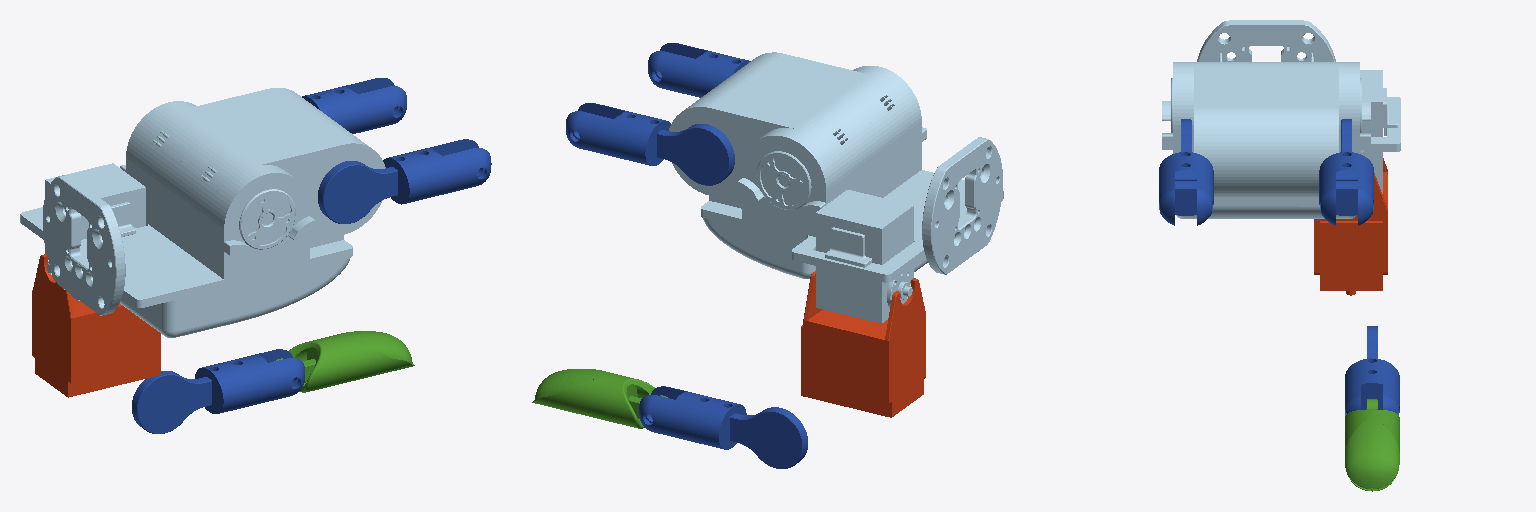
URDF robot description (platov2):
<?xml version="1.0"?>
<robot name="platov2">

<!-- Virtual Arm -->
  <link name="base">
    <inertial>
      <mass value="1.0e9"/>
      <inertia ixx="1.0e-9" ixy="0.0" ixz="0.0" iyy="1.0e-9" iyz="0.0" izz="1.0e-9"/>
    </inertial>
  </link>

  <link name="virtual_link_x">
    <inertial>
      <mass value="1.0e-9"/>
      <inertia ixx="1.0e-9" ixy="0.0" ixz="0.0" iyy="1.0e-9" iyz="0.0" izz="1.0e-9"/>
    </inertial>
  </link>

   <joint name="virtual_joint_x" type="prismatic">
    <parent link="base"/>
    <child link="virtual_link_x"/>
    <origin xyz="0 0 0"/>
    <axis xyz="1 0 0"/>
    <limit lower="-1e9" upper="1e9" effort="1000.0" velocity="10"/>
  </joint>

  <link name="virtual_link_y">
    <inertial>
      <mass value="1e-9"/>
      <inertia ixx="1e-9" ixy="0.0" ixz="0.0" iyy="1e-9" iyz="0.0" izz="1e-9"/>
    </inertial>
  </link>

  <joint name="virtual_joint_y" type="prismatic">
    <parent link="virtual_link_x"/>
    <child link="virtual_link_y"/>
    <origin xyz="0 0 0"/>
    <axis xyz="0 1 0"/>
    <limit lower="-1e9" upper="1e9" effort="1000.0" velocity="10"/>
  </joint>

  <link name="virtual_link_z">
    <inertial>
      <mass value="1e-9"/>
      <inertia ixx="1e-9" ixy="0.0" ixz="0.0" iyy="1e-9" iyz="0.0" izz="1e-9"/>
    </inertial>
  </link>

  <joint name="virtual_joint_z" type="prismatic">
    <parent link="virtual_link_y"/>
    <child link="virtual_link_z"/>
    <origin xyz="0 0 0"/>
    <axis xyz="0 0 1"/>
    <limit lower="-1e9" upper="1e9" effort="1000.0" velocity="10"/>
  </joint>

  <link name="virtual_link_pitch">
    <inertial>
      <mass value="1e-9"/>
      <inertia ixx="1e-9" ixy="0.0" ixz="0.0" iyy="1e-9" iyz="0.0" izz="1e-9"/>
    </inertial>
  </link>

  <joint name="virtual_joint_pitch" type="revolute">
    <axis xyz="0 1 0"/>
    <origin rpy="0 0 0" xyz="0 0 0"/>
    <parent link="virtual_link_z"/>
    <child link="virtual_link_pitch"/>
    <limit effort="1000.0" lower="-1.57" upper="1.57" velocity="10"/>
  </joint>

    <link name="virtual_link_yaw">
    <inertial>
      <mass value="1e-9"/>
      <inertia ixx="1e-9" ixy="0.0" ixz="0.0" iyy="1e-9" iyz="0.0" izz="1e-9"/>
    </inertial>
  </link>

  <joint name="virtual_joint_yaw" type="revolute">
    <axis xyz="0 0 1"/>
    <origin rpy="0 0 0" xyz="0 0 0"/>
    <parent link="virtual_link_pitch"/>
    <child link="virtual_link_yaw"/>
    <limit effort="1000.0" lower="-1.57" upper="1.57" velocity="10"/>
  </joint>


  <!-- <link name="virtual_link_roll">
    <inertial>
      <mass value="1e-9"/>
      <inertia ixx="1e-9" ixy="0.0" ixz="0.0" iyy="1e-9" iyz="0.0" izz="1e-9"/>
    </inertial>
  </link> -->

  <joint name="virtual_joint_roll" type="revolute">
    <axis xyz="1 0 0"/>
    <origin rpy="0 0 0" xyz="0 0 0"/>
    <parent link="virtual_link_yaw"/>
    <child link="plato_base"/>
    <limit effort="1000.0" lower="-1.57" upper="1.57" velocity="10"/>
  </joint>

<!-- Plato URDF -->
  <link name="plato_ee">
    <inertial>
      <origin xyz="0.0 0.0 0.0" rpy="0 0 0" />
      <mass value="1e-8" />
      <inertia ixx="1e-8" ixy="0.0" ixz="0.0" iyy="1e-8" iyz="0.0" izz="1e-8" />
    </inertial>
  </link>

  <joint name="plato_ee_joint" type="fixed">
    <origin rpy="0 0 0" xyz="0.175 0 -0.07" />
    <parent link="plato_base" />
    <child link="plato_ee" />
  </joint>

  <link name="plato_base">
    <visual>
      <origin xyz="0 0 0" rpy="0 -0 0" />
      <geometry>
        <mesh filename="package://meshes/plato/plato_base_visual.stl" />
      </geometry>
      <material name="plato_base_material">
        <color rgba="0.76862745098039220171 0.88627450980392152857 0.95294117647058818044 1.0" />
      </material>
    </visual>
    <collision>
      <origin xyz="0.055 0 0.015" rpy="0 -0 0" />
      <geometry>
        <!-- <mesh filename="package://meshes/plato/plato_base_collision.stl"/> -->
        <box size="0.11 0.06 0.075" />
      </geometry>
    </collision>
    <inertial>
      <origin xyz="0.072253187903399476721 0.0027042690169013089418 0.010832994409198807087"
        rpy="0 0 0" />
      <mass value="0.48743034749190494725" />
      <inertia ixx="0.00047862593079525661815" ixy="5.9487871359088766588e-05"
        ixz="-0.00011827147650934475198" iyy="0.00065212155154834234357"
        iyz="1.4829516353374399984e-05" izz="0.00077625253551394607452" />
    </inertial>
  </link>

  <link name="plato_finger0_mcp">
    <visual>
      <origin xyz="0 0 0" rpy="0 -0 0" />
      <geometry>
        <mesh filename="package://meshes/plato/plato_finger0_mcp_visual.stl" />
      </geometry>
      <material name="plato_finger0_mcp_material">
        <color rgba="0.86666666666666669627 0.32156862745098041545 0.15686274509803921351 1.0" />
      </material>
    </visual>
    <collision>
      <origin xyz="0 -0.035 0.015" rpy="0 -0 0" />
      <geometry>
        <!-- <mesh filename="package://meshes/plato/plato_finger0_mcp_collision.stl"/> -->
        <box size="0.038 0.03 0.033" />
      </geometry>
    </collision>
    <inertial>
      <origin xyz="4.3368086812332699059e-18 -0.035858990017060971001 0.02096136181894839301"
        rpy="0 0 0" />
      <mass value="0.059987560455837050932" />
      <inertia ixx="1.9336847962055060749e-05" ixy="-3.4998742149709024301e-31"
        ixz="8.3553051875136875286e-29" iyy="1.6327789453929628338e-05"
        iyz="2.2275403852160981363e-07" izz="1.3613507982076626543e-05" />
    </inertial>
  </link>

  <link name="plato_finger0_actuator">
    <visual>
      <origin xyz="0 0 0" rpy="0 -0 0" />
      <geometry>
        <mesh filename="package://meshes/plato/plato_finger0_actuator_visual.stl" />
      </geometry>
      <material name="plato_finger0_actuator_material">
        <color rgba="0.98039215686274505668 0.71372549019607844922 0.0039215686274509803377 1.0" />
      </material>
    </visual>
    <collision>
      <origin xyz="0.008 0.01 -0.025" rpy="0 -0 0" />
      <geometry>
        <!-- <mesh filename="package://meshes/plato/plato_finger0_actuator_collision.stl"/> -->
        <box size="0.07 0.025 0.04" />
      </geometry>
    </collision>
    <inertial>
      <origin xyz="-0.0017003014462741046758 0.0034003474082472959564 -0.021509600469238610021"
        rpy="0 0 0" />
      <mass value="0.097951145202285275215" />
      <inertia ixx="2.327070745163399977e-05" ixy="1.0141384320562153623e-05"
        ixz="-2.5823536163417861853e-06" iyy="7.1448972019017559904e-05"
        iyz="3.421906922706638638e-07" izz="6.6916311631679264039e-05" />
    </inertial>
  </link>

  <link name="plato_finger0_link1">
    <visual>
      <origin xyz="0 0 0" rpy="0 -0 0" />
      <geometry>
        <mesh filename="package://meshes/plato/plato_finger0_link1_visual.stl" />
      </geometry>
      <material name="plato_finger0_link1_material">
        <color rgba="0.2313725490196078538 0.38039215686274507888 0.7058823529411765163 1.0" />
      </material>
    </visual>
    <collision>
      <origin xyz="0 0 0" rpy="0 -0 0" />
      <geometry>
        <mesh filename="package://meshes/plato/plato_finger0_link1_collision.stl" />
      </geometry>
    </collision>
    <inertial>
      <origin xyz="0.032327885659848135114 0.00010105858651056218384 -0.0025039455945214694234"
        rpy="0 0 0" />
      <mass value="0.016408945567631467305" />
      <inertia ixx="1.0305383873797942614e-06" ixy="-2.5156605351815777883e-08"
        ixz="1.6765159730014295618e-09" iyy="6.5540676884658039135e-06"
        iyz="-3.6909321465722408623e-11" izz="6.4212583341237596527e-06" />
    </inertial>
  </link>

  <link name="plato_finger0_link2">
    <visual>
      <origin xyz="0 0 0" rpy="0 -0 0" />
      <geometry>
        <mesh filename="package://meshes/plato/plato_finger0_link2_visual.stl" />
      </geometry>
      <material name="plato_finger0_link2_material">
        <color rgba="0.37254901960784314596 0.65490196078431373028 0.23921568627450978672 1.0" />
      </material>
    </visual>
    <collision>
      <origin xyz="0 0 0" rpy="0 -0 0" />
      <geometry>
        <mesh filename="package://meshes/plato/plato_finger0_link2_collision.stl" />
      </geometry>
    </collision>
    <inertial>
      <origin xyz="0.033420114187910673897 0.00087489014235658465763 -0.0024991294289444230571"
        rpy="0 0 0" />
      <mass value="0.017824410830501669772" />
      <inertia ixx="1.0868615018735310211e-06" ixy="-1.0926066300549407727e-07"
        ixz="-6.2707510008701054345e-11" iyy="4.6336449367957920507e-06"
        iyz="2.9999644930155378134e-11" izz="4.3422594653121779546e-06" />
    </inertial>
  </link>

  <link name="plato_finger0_ee">
    <inertial>
      <origin xyz="0 0 0" rpy="0 0 0" />
      <mass value="1e-9" />
      <inertia ixx="0" ixy="0" ixz="0" iyy="0" iyz="0" izz="0" />
    </inertial>
  </link>
  <joint name="plato_finger0_ee_joint" type="fixed">
    <origin xyz="0.063094028360469539551 0.0092379839030397731259 -0.0025000000000000160982"
      rpy="-3.1415926535897926719 1.0178922239597187368e-17 -0.016022148110467510085" />
    <parent link="plato_finger0_link2" />
    <child link="plato_finger0_ee" />
    <axis xyz="0 0 0" />
  </joint>

  <joint name="plato_finger0_joint2" type="revolute">
    <origin xyz="0.05999999999999999778 0 -0.0049999999999998517852"
      rpy="-3.141592653589793116 2.7271404791364840736e-23 2.0382227532457290056e-21" />
    <parent link="plato_finger0_link1" />
    <child link="plato_finger0_link2" />
    <axis xyz="0 0 1" />
    <limit effort="0.8499999999999999778" velocity="1.5700000000000000622"
      lower="-2.0943951023931952626" upper="0" />
    <joint_properties friction="0.0" />
  </joint>

  <joint name="plato_finger0_joint1" type="revolute">
    <origin xyz="-0.02550000000000001571 -0.0069999999999999923395 -0.024000000000000007438"
      rpy="1.570796326794896558 1.2969694765680609e-21 3.141592653589793116" />
    <parent link="plato_finger0_actuator" />
    <child link="plato_finger0_link1" />
    <axis xyz="0 0 1" />
    <limit effort="0.8499999999999999778" velocity="1.5700000000000000622"
      lower="-1.0471975511965976313" upper="1.0471975511965976313" />
    <joint_properties friction="0.0" />
  </joint>

  <joint name="plato_finger0_actuator" type="revolute">
    <origin xyz="1.3877787807814456755e-17 -0.058249999999999982347 0.033249999999999967082"
      rpy="-1.57079632679489678 1.570796326794896558 0" />
    <parent link="plato_finger0_mcp" />
    <child link="plato_finger0_actuator" />
    <axis xyz="0 0 1" />
    <limit effort="0.8499999999999999778" velocity="1.5700000000000000622"
      lower="-1.570796326794896558" upper="1.570796326794896558" />
    <joint_properties friction="0.0" />
  </joint>

  <joint name="plato_finger0_mcp" type="revolute">
    <origin xyz="0.010500011026526772165 0.038499992148728609531 -0.015850000116908929959"
      rpy="1.5707964582365219197 -3.4663894693344668523e-15 1.5707963531668935886" />
    <parent link="plato_base" />
    <child link="plato_finger0_mcp" />
    <axis xyz="0 0 1" />
    <limit effort="0.8499999999999999778" velocity="1.5700000000000000622"
      lower="-0.34906585039886589561" upper="1.2217304763960306069" />
    <joint_properties friction="0.0" />
  </joint>

  <link name="plato_finger1_link1">
    <visual>
      <origin xyz="0 0 0" rpy="0 -0 0" />
      <geometry>
        <mesh filename="package://meshes/plato/plato_finger1_link1_visual.stl" />
      </geometry>
      <material name="plato_finger1_link1_material">
        <color rgba="0.2313725490196078538 0.38039215686274507888 0.7058823529411765163 1.0" />
      </material>
    </visual>
    <collision>
      <origin xyz="0 0 0" rpy="0 -0 0" />
      <geometry>
        <mesh filename="package://meshes/plato/plato_finger1_link1_collision.stl" />
      </geometry>
    </collision>
    <inertial>
      <origin xyz="0.03232787423603074306 -0.00010128860539808447021 -0.0025039441057958630905"
        rpy="0 0 0" />
      <mass value="0.016408928599279455629" />
      <inertia ixx="1.0305320709315028797e-06" ixy="2.5184507284040099629e-08"
        ixz="1.6753796059606909309e-09" iyy="6.5540591658381624555e-06"
        iyz="-2.6871484542664325565e-11" izz="6.4212625465929621513e-06" />
    </inertial>
  </link>

  <link name="plato_finger1_link2">
    <visual>
      <origin xyz="0 0 0" rpy="0 -0 0" />
      <geometry>
        <mesh filename="package://meshes/plato/plato_finger1_link2_visual.stl" />
      </geometry>
      <material name="plato_finger1_link2_material">
        <color rgba="0.37254901960784314596 0.65490196078431373028 0.23921568627450981448 1.0" />
      </material>
    </visual>
    <collision>
      <origin xyz="0 0 0" rpy="0 -0 0" />
      <geometry>
        <mesh filename="package://meshes/plato/plato_finger1_link2_collision.stl" />
      </geometry>
    </collision>
    <inertial>
      <origin xyz="0.033419892432294387441 -0.00087488562936179059808 -0.0024995866007478553632"
        rpy="0 0 0" />
      <mass value="0.017824303232886661019" />
      <inertia ixx="1.0868498583484265088e-06" ixy="1.092938844654737761e-07"
        ixz="4.8572454538354767255e-11" iyy="4.6336740337042243886e-06"
        iyz="3.0565666129865885853e-11" izz="4.3422515521949153376e-06" />
    </inertial>
  </link>

  <link name="plato_finger1_ee">
    <inertial>
      <origin xyz="0 0 0" rpy="0 0 0" />
      <mass value="1e-9" />
      <inertia ixx="0" ixy="0" ixz="0" iyy="0" iyz="0" izz="0" />
    </inertial>
  </link>
  <joint name="plato_finger1_ee_joint" type="fixed">
    <origin xyz="0.063094028360469539551 -0.0092379839030397731259 -0.0025000000000000230371"
      rpy="1.5707963267948958919 1.0178915901030053653e-17 0.016022148110467458043" />
    <parent link="plato_finger1_link2" />
    <child link="plato_finger1_ee" />
    <axis xyz="0 0 0" />
  </joint>

  <joint name="plato_finger1_joint2" type="revolute">
    <origin xyz="0.05999999999999999778 -1.0408340855860842566e-17 -0.0049999999999998379074"
      rpy="3.141592653589793116 1.9908495917398205473e-26 3.0704605524790294154e-16" />
    <parent link="plato_finger1_link1" />
    <child link="plato_finger1_link2" />
    <axis xyz="0 0 1" />
    <limit effort="0.8499999999999999778" velocity="1.5700000000000000622" lower="0"
      upper="2.0943951023931952626" />
    <joint_properties friction="0.0" />
  </joint>

  <joint name="plato_finger1_joint1" type="revolute">
    <origin xyz="0.1135000000000000453 0.034000000000002243705 0.025999999999997049777"
      rpy="1.5707963267948106267 -2.4286128663675290077e-17 2.2203501001526896098e-16" />
    <parent link="plato_base" />
    <child link="plato_finger1_link1" />
    <axis xyz="0 0 1" />
    <limit effort="0.8499999999999999778" velocity="1.5700000000000000622"
      lower="-1.0471975511965976313" upper="1.0471975511965976313" />
    <joint_properties friction="0.0" />
  </joint>

  <link name="plato_finger2_link1">
    <visual>
      <origin xyz="0 0 0" rpy="0 -0 0" />
      <geometry>
        <mesh filename="package://meshes/plato/plato_finger2_link1_visual.stl" />
      </geometry>
      <material name="plato_finger2_link1_material">
        <color rgba="0.2313725490196078538 0.38039215686274507888 0.7058823529411765163 1.0" />
      </material>
    </visual>
    <collision>
      <origin xyz="0 0 0" rpy="0 -0 0" />
      <geometry>
        <mesh filename="package://meshes/plato/plato_finger2_link1_collision.stl" />
      </geometry>
    </collision>
    <inertial>
      <origin xyz="0.032327885659848135114 0.00010105858651056218384 -0.0025039455945214694234"
        rpy="0 0 0" />
      <mass value="0.016408945567631467305" />
      <inertia ixx="1.0305383873797942614e-06" ixy="-2.51566053518157845e-08"
        ixz="1.6765159730014221171e-09" iyy="6.5540676884658039135e-06"
        iyz="-3.690932146572187871e-11" izz="6.4212583341237621938e-06" />
    </inertial>
  </link>

  <link name="plato_finger2_link2">
    <visual>
      <origin xyz="0 0 0" rpy="0 -0 0" />
      <geometry>
        <mesh filename="package://meshes/plato/plato_finger2_link2_visual.stl" />
      </geometry>
      <material name="plato_finger2_link2_material">
        <color rgba="0.37254901960784314596 0.65490196078431373028 0.23921568627450978672 1.0" />
      </material>
    </visual>
    <collision>
      <origin xyz="0 0 0" rpy="0 -0 0" />
      <geometry>
        <mesh filename="package://meshes/plato/plato_finger2_link2_collision.stl" />
      </geometry>
    </collision>
    <inertial>
      <origin xyz="0.033420114187910618386 -0.00087489014235657761032 -0.0025008705710555744449"
        rpy="0 0 0" />
      <mass value="0.017824410830501669772" />
      <inertia ixx="1.0868615018735310211e-06" ixy="1.0926066300549407727e-07"
        ixz="6.2707510008712363455e-11" iyy="4.6336449367957928977e-06"
        iyz="2.9999644930158208642e-11" izz="4.3422594653121779546e-06" />
    </inertial>
  </link>

  <link name="plato_finger2_ee">
    <inertial>
      <origin xyz="0 0 0" rpy="0 0 0" />
      <mass value="1e-9" />
      <inertia ixx="0" ixy="0" ixz="0" iyy="0" iyz="0" izz="0" />
    </inertial>
  </link>
  <joint name="plato_finger2_ee_joint" type="fixed">
    <origin xyz="0.063094028360469511796 -0.009237983903039766187 -0.0024999999999999814038"
      rpy="1.5707963267948970021 -1.017893310654182657e-17 0.016022148110467461513" />
    <parent link="plato_finger2_link2" />
    <child link="plato_finger2_ee" />
    <axis xyz="0 0 0" />
  </joint>

  <joint name="plato_finger2_joint2" type="revolute">
    <origin xyz="0.059999999999999970024 6.9388939039072283776e-18 1.4571677198205179593e-16"
      rpy="-1.5146129380243426664e-28 1.1574569446251038759e-23 2.9910702379423482525e-21" />
    <parent link="plato_finger2_link1" />
    <child link="plato_finger2_link2" />
    <axis xyz="0 0 1" />
    <limit effort="0.8499999999999999778" velocity="1.5700000000000000622" lower="0"
      upper="2.0943951023931952626" />
    <joint_properties friction="0.0" />
  </joint>

  <joint name="plato_finger2_joint1" type="revolute">
    <origin xyz="0.11350000000000096123 -0.033999999999997837508 0.026000000000003180289"
      rpy="-1.5707963267949827113 1.4857049400810895798e-26 5.5511151206923045817e-17" />
    <parent link="plato_base" />
    <child link="plato_finger2_link1" />
    <axis xyz="0 0 1" />
    <limit effort="0.8499999999999999778" velocity="1.5700000000000000622"
      lower="-1.0471975511965976313" upper="1.0471975511965976313" />
    <joint_properties friction="0.0" />
  </joint>

</robot>

--- Facts derived from the render (not from the file) ---
3 views of the same robot in one strip: view 1: azimuth 30°, elevation 25°; view 2: azimuth 150°, elevation 25°; view 3: azimuth 270°, elevation 25° (orthographic).
Model platov2 with 19 links and 18 joints (11 revolute, 3 prismatic, 4 fixed), rooted at base, posed all joints at 0.
Links seen in each view (by area): view 1: plato_base, plato_finger0_mcp, plato_finger2_link1, plato_finger0_link1, plato_finger0_link2, plato_finger1_link1; view 2: plato_base, plato_finger0_mcp, plato_finger0_link1, plato_finger1_link1, plato_finger0_link2, plato_finger2_link1; view 3: plato_base, plato_finger0_mcp, plato_finger0_link2, plato_finger1_link1, plato_finger2_link1, plato_finger0_link1.
Boxes of the visible links, bbox=[...] form: plato_base: bbox=[20, 88, 385, 337]; plato_finger0_mcp: bbox=[32, 254, 160, 397]; plato_finger2_link1: bbox=[318, 139, 491, 223]; plato_finger0_link1: bbox=[132, 349, 304, 433]; plato_finger0_link2: bbox=[274, 331, 414, 392]; plato_finger1_link1: bbox=[302, 78, 406, 133]; plato_base: bbox=[669, 52, 1003, 323]; plato_finger0_mcp: bbox=[801, 271, 925, 417]; plato_finger0_link1: bbox=[639, 386, 807, 468]; plato_finger1_link1: bbox=[566, 103, 734, 185]; plato_finger0_link2: bbox=[532, 369, 667, 428]; plato_finger2_link1: bbox=[648, 43, 750, 97]; plato_base: bbox=[1162, 20, 1400, 218]; plato_finger0_mcp: bbox=[1314, 158, 1387, 295]; plato_finger0_link2: bbox=[1345, 399, 1399, 491]; plato_finger1_link1: bbox=[1319, 119, 1373, 225]; plato_finger2_link1: bbox=[1159, 119, 1213, 225]; plato_finger0_link1: bbox=[1345, 326, 1399, 415].
Bounding box of the posed robot: 0.1929 × 0.1102 × 0.1596 m (x, y, z).
6 mesh visuals loaded from 9 distinct referenced files (6 binary STL); not drawn: 3 (reference not matched to a file when rendering).
